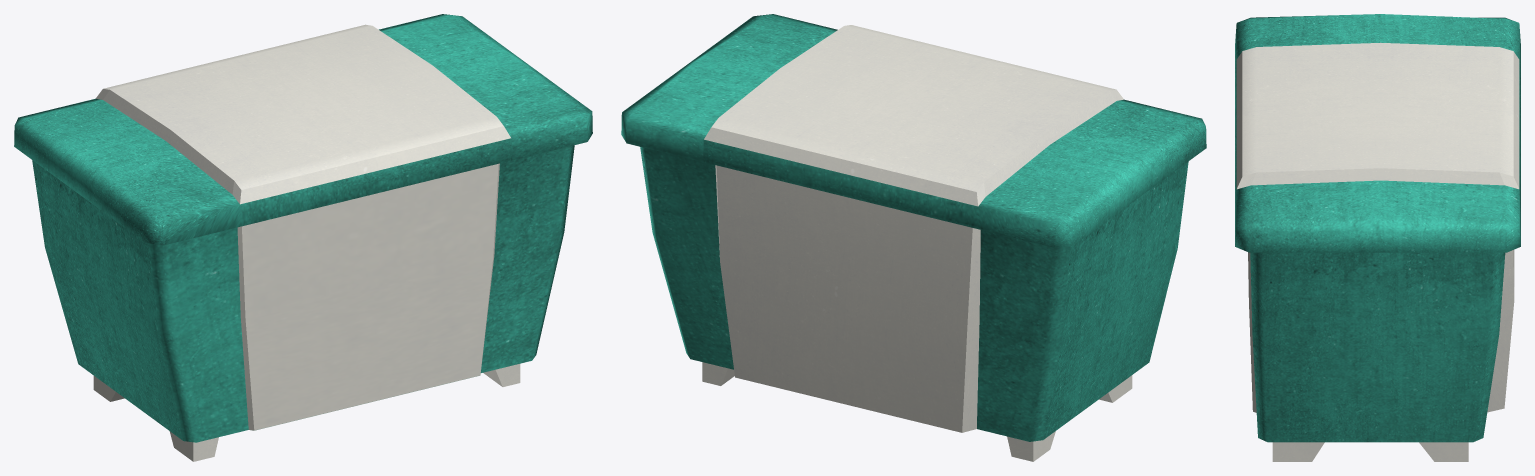
File: lixeira.fbx
3 views of the same model, side by side, from view 1: azimuth 30°, elevation 25°; view 2: azimuth 150°, elevation 25°; view 3: azimuth 270°, elevation 25° (orthographic). The views are drawn at different scales.
Visible parts, largest first — view 1: lixeira; view 2: lixeira; view 3: lixeira.
Boxes of the visible parts, box(x1,y1,x2,y2) form: lixeira: box(14, 14, 592, 461); lixeira: box(621, 14, 1206, 461); lixeira: box(1235, 14, 1520, 461).
Bounding box in the file's own units: 2.47 × 1.5 × 1.39.
